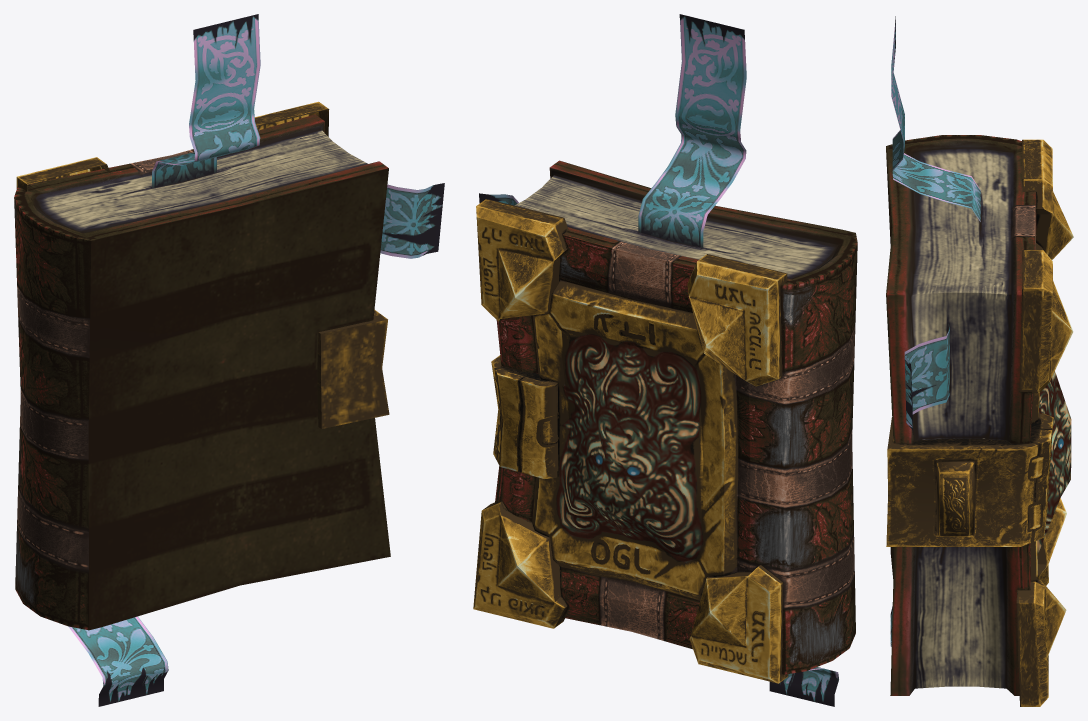
Rendered from StatsModifierInteractable.fbx.
3 renders of one model, left to right at view 1: azimuth 30°, elevation 25°; view 2: azimuth 150°, elevation 25°; view 3: azimuth 270°, elevation 25°, orthographic. The views are drawn at different scales.
Visible parts, largest first — view 1: book.obj; view 2: book.obj; view 3: book.obj.
Boxes of the visible parts, bbox=[...] form: book.obj: bbox=[14, 14, 444, 706]; book.obj: bbox=[473, 14, 857, 706]; book.obj: bbox=[886, 16, 1073, 706].
Size of the model in its own units: 10321 by 4232 by 16655.
Materials: 1 (1 with a texture image).
